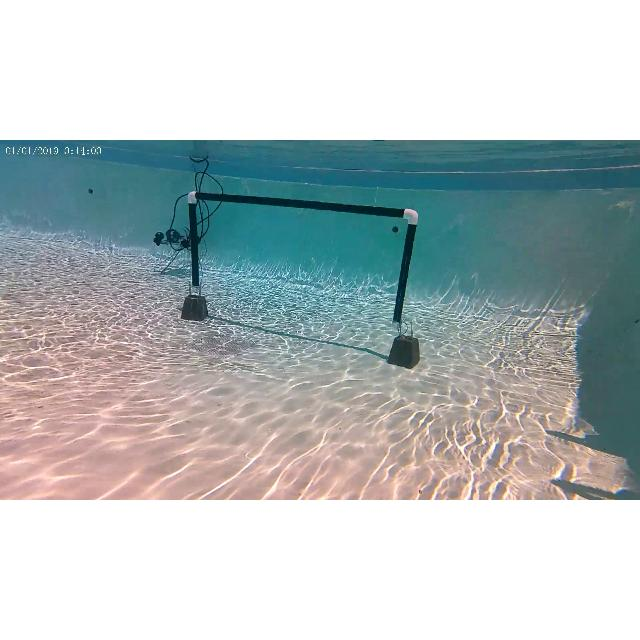prequal gate: (186, 192, 420, 328)
prequal gate leg l: (182, 190, 210, 322)
prequal gate leg r: (388, 204, 424, 368)
